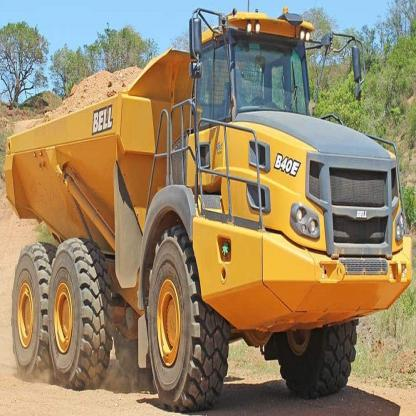dump_truck: (11, 13, 411, 412)
